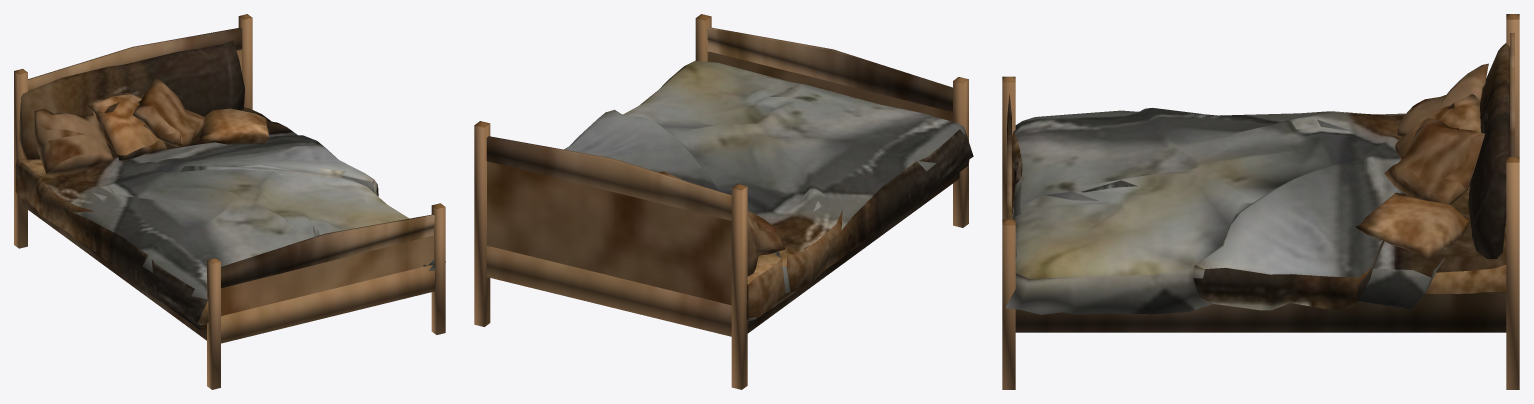
The model's file is BedBrkn 1.fbx.
The picture shows the model from 3 angles, left to right: view 1: azimuth 30°, elevation 25°; view 2: azimuth 150°, elevation 25°; view 3: azimuth 270°, elevation 25°; orthographic projection. The views are drawn at different scales.
Visible parts, largest first — view 1: bed; view 2: bed; view 3: bed.
Boxes of the visible parts, <box> form: bed: <box>14,14,445,389</box>; bed: <box>474,14,973,389</box>; bed: <box>1002,14,1519,389</box>.
Bounding box in the file's own units: 189 × 123 × 250.
